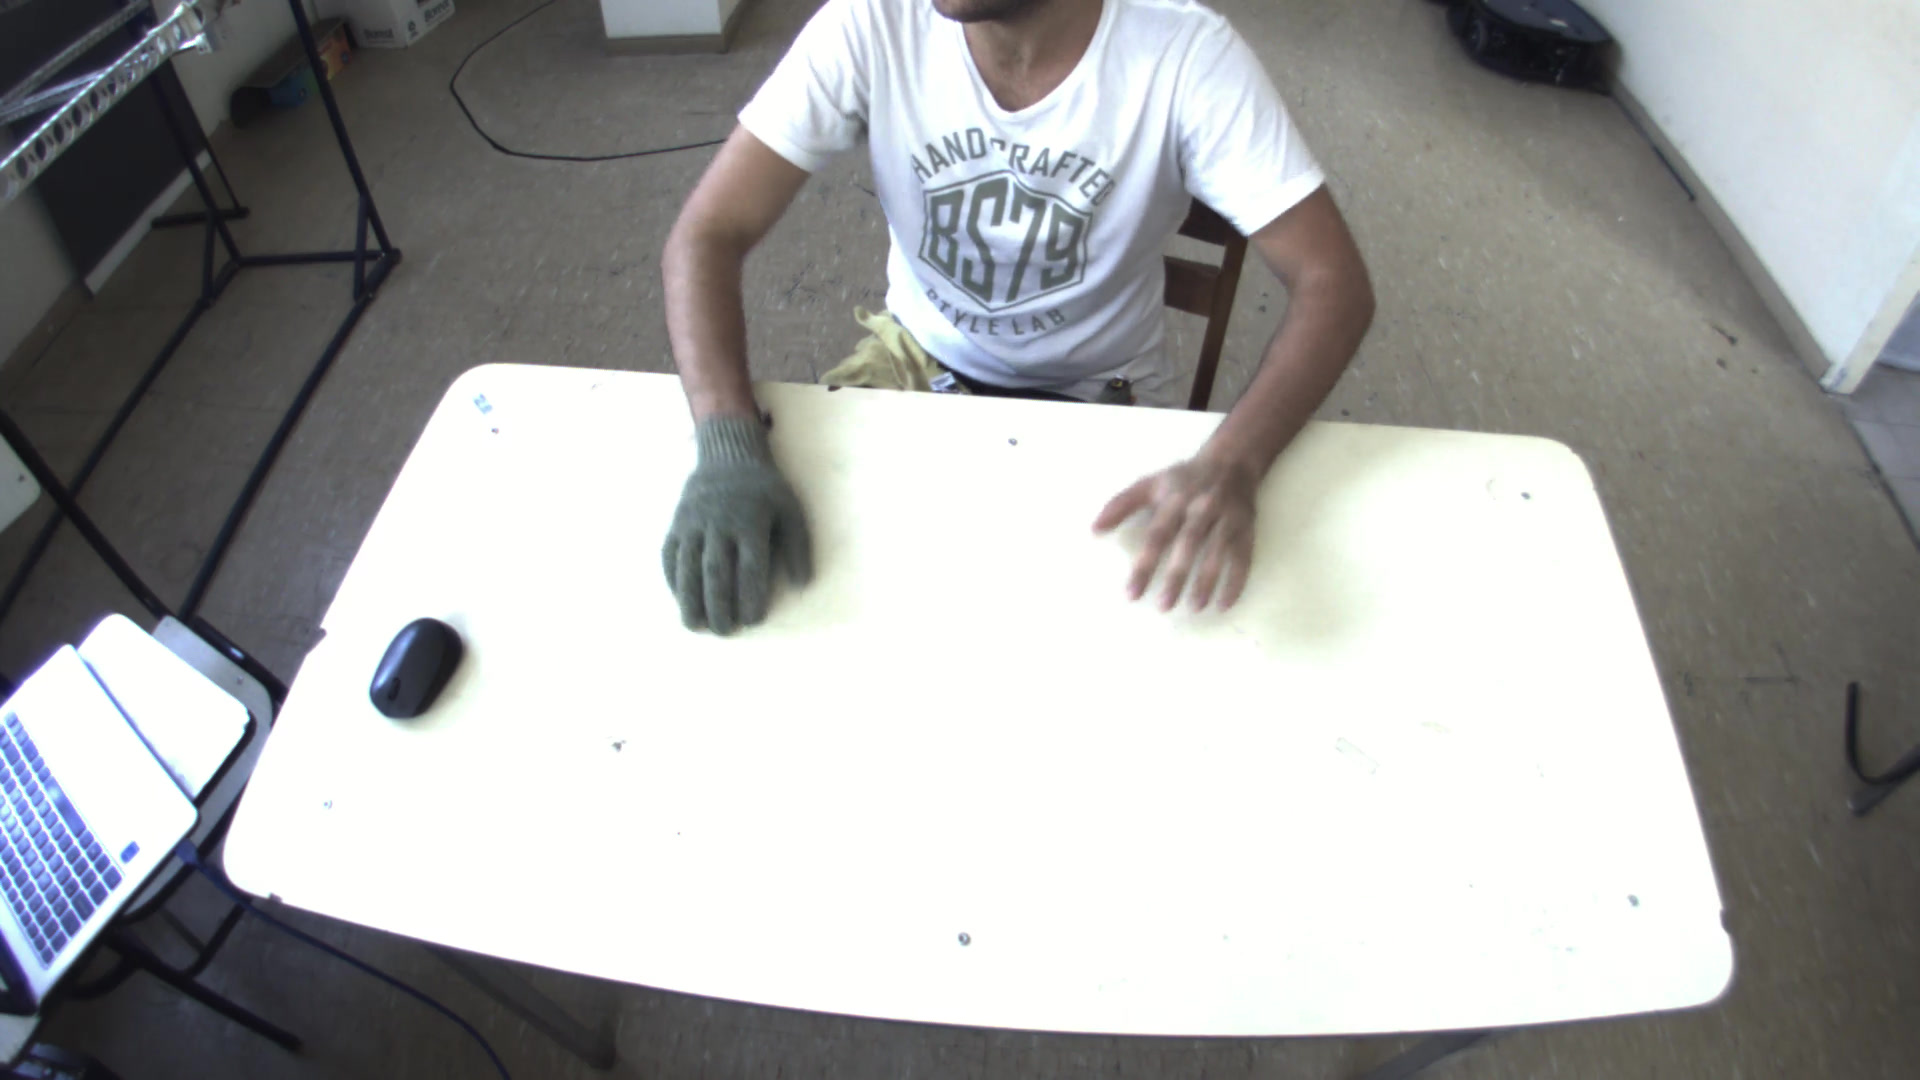hand: (644, 389, 819, 641), (1088, 436, 1280, 620)
